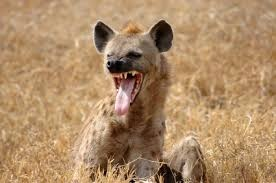hyna: (67, 17, 209, 182)
